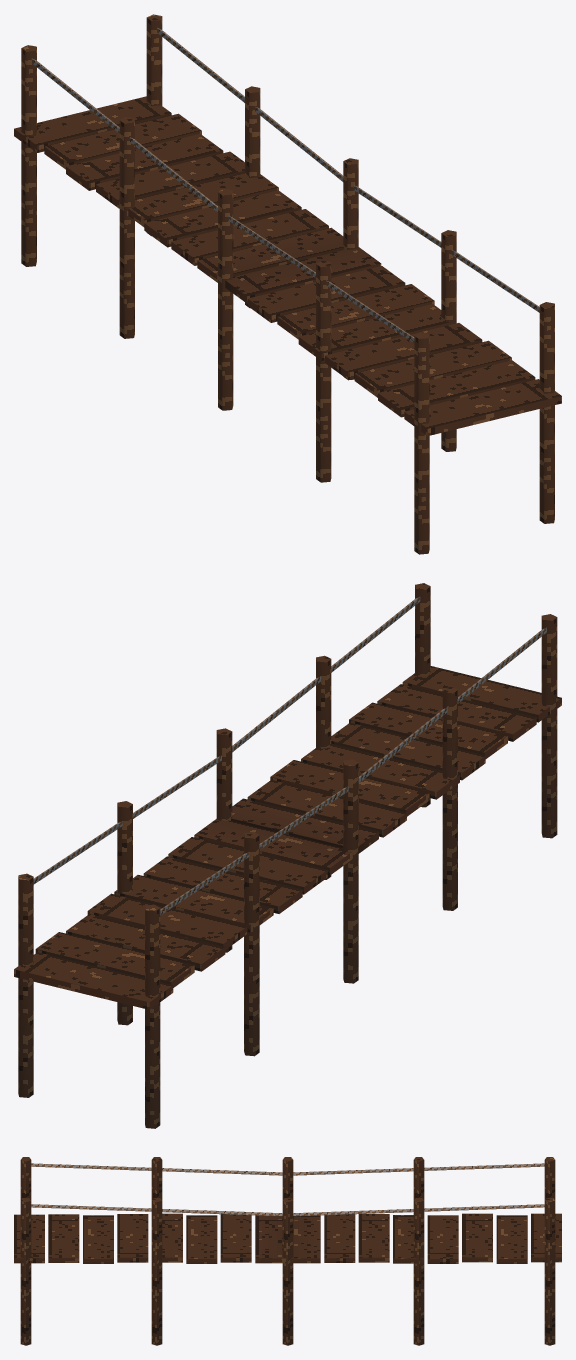
The model's file is lake.bridge__planks.glb.
The picture shows the model from 3 angles, top to bottom: view 1: azimuth 30°, elevation 25°; view 2: azimuth 150°, elevation 25°; view 3: azimuth 270°, elevation 25°; orthographic projection. The views are drawn at different scales.
Parts seen in each view (by area): view 1: kit_deck, kit_piles, kit_rails; view 2: kit_deck, kit_piles, kit_rails; view 3: kit_deck, kit_piles, kit_rails.
Boxes of the visible parts, bbox=[...] form: kit_deck: bbox=[14, 96, 561, 435]; kit_piles: bbox=[21, 14, 554, 554]; kit_rails: bbox=[31, 28, 539, 342]; kit_deck: bbox=[14, 666, 561, 1009]; kit_piles: bbox=[18, 583, 557, 1128]; kit_rails: bbox=[33, 597, 546, 915]; kit_deck: bbox=[14, 1213, 561, 1263]; kit_piles: bbox=[20, 1157, 555, 1345]; kit_rails: bbox=[31, 1163, 544, 1216].
Bounding box in the file's own units: 1.55 × 2.3 × 7.95.
Materials: 3 (3 with a texture image).
